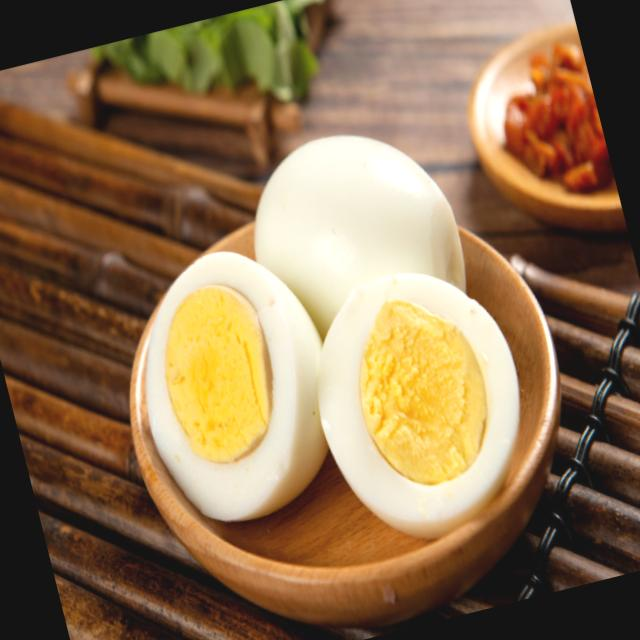trung luoc: (142, 135, 519, 537)
